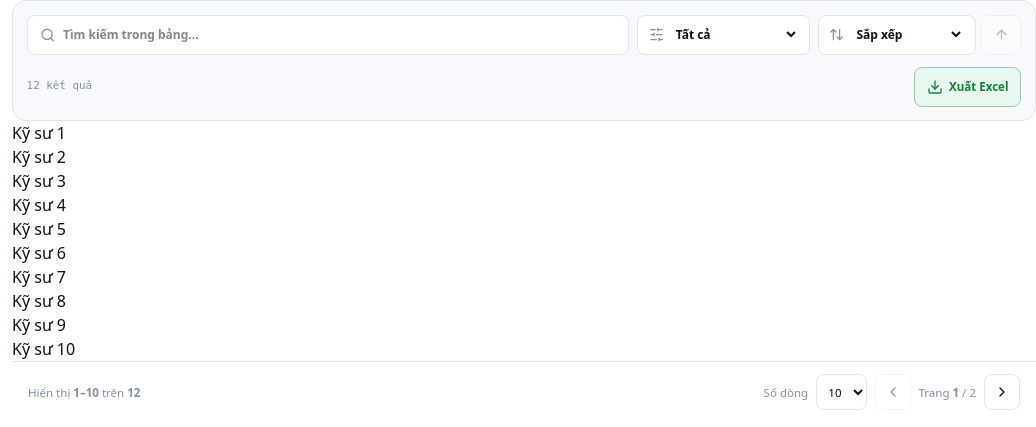
Test: AdminTableTools › searches, filters and paginates local table rows
Expected: the list item "Kỹ sư 10" is shown, [12,338,75,360]
Expected: the text "Kỹ sư 11" is not shown
Click the button named "Trang sau" at (1002, 392), box [984,374,1020,410]
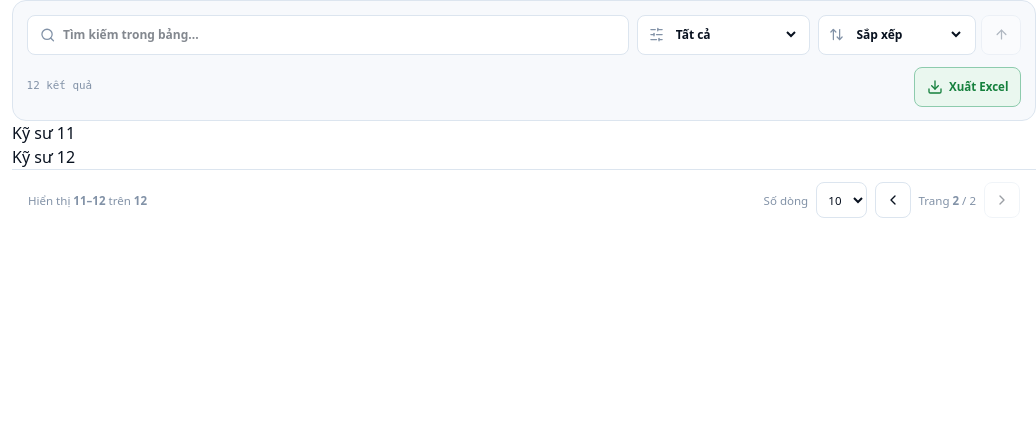
Expected: the list item "Kỹ sư 11" is shown, [12,122,75,144]
Type "Kỹ sư 12" into the search field at (340, 35), box [63,26,616,44]
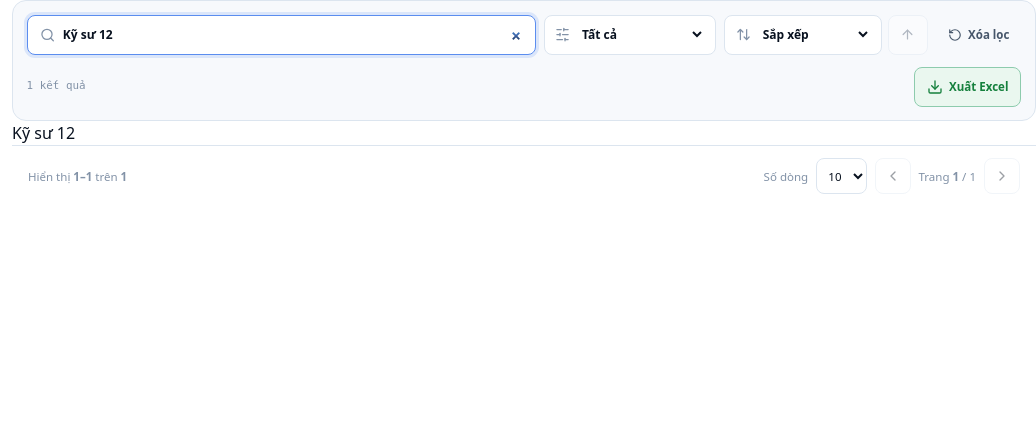
Expected: the list item "Kỹ sư 12" is shown, [12,122,75,144]
Expected: the list item "Kỹ sư 11" is gone
Clear the search field at (293, 35), box [63,26,522,44]
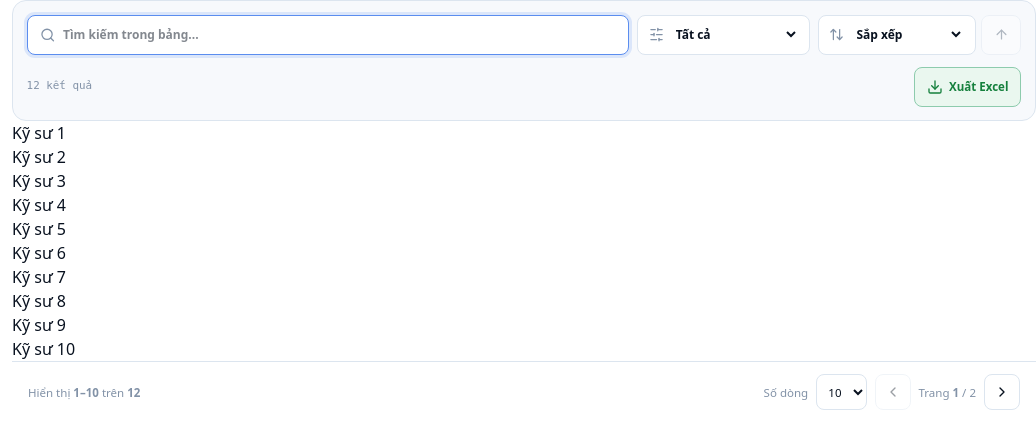
Select "Hoạt động" in the dropdown named "Lọc trạng thái" at (735, 35), box [672,25,799,44]
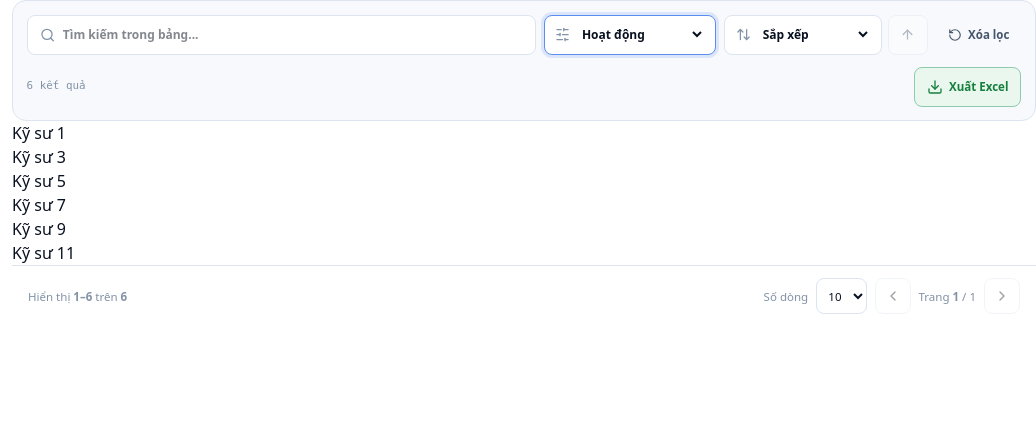
Expected: the message reads "6 kết quả", [27,78,86,95]
Expected: the list item "Kỹ sư 2" is gone
